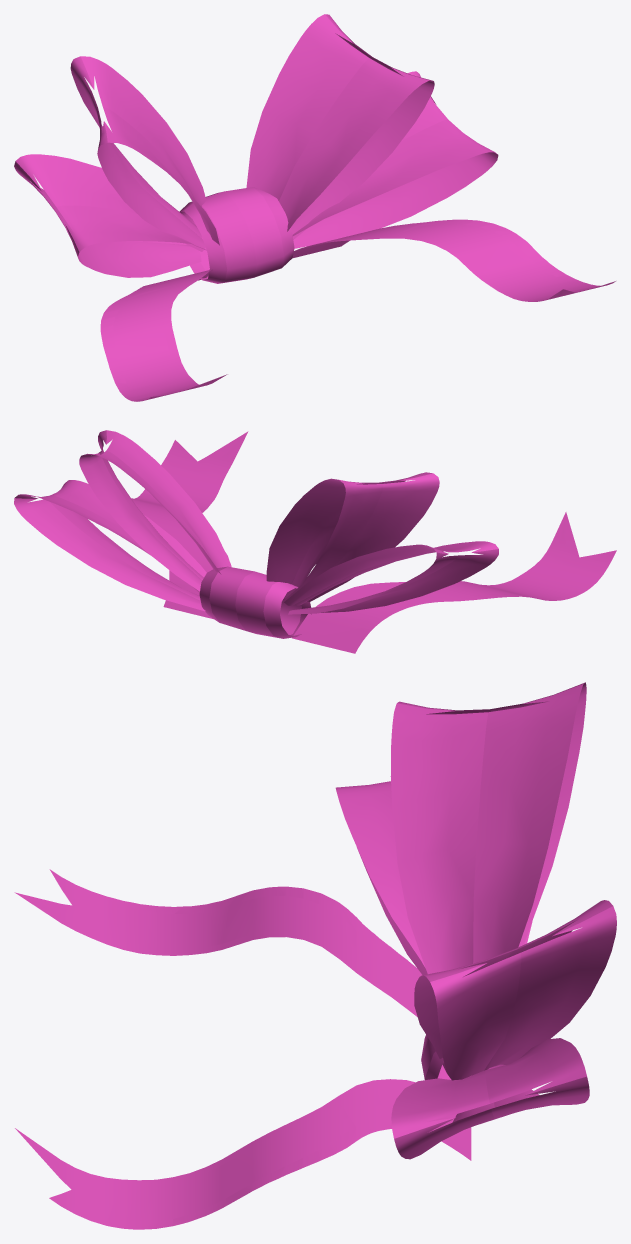
Rendered from RU Bow.gltf.
3 views of the same model, one above another, from view 1: azimuth 30°, elevation 25°; view 2: azimuth 150°, elevation 25°; view 3: azimuth 270°, elevation 25° (orthographic). The views are drawn at different scales.
Visible parts, largest first — view 1: node-0; view 2: node-0; view 3: node-0.
Boxes of the visible parts, x1=… form: node-0: x1=14, y1=14, x2=615, y2=401; node-0: x1=14, y1=430, x2=616, y2=653; node-0: x1=14, y1=682, x2=616, y2=1229.
Bounding box in the file's own units: 503 × 227 × 385.
